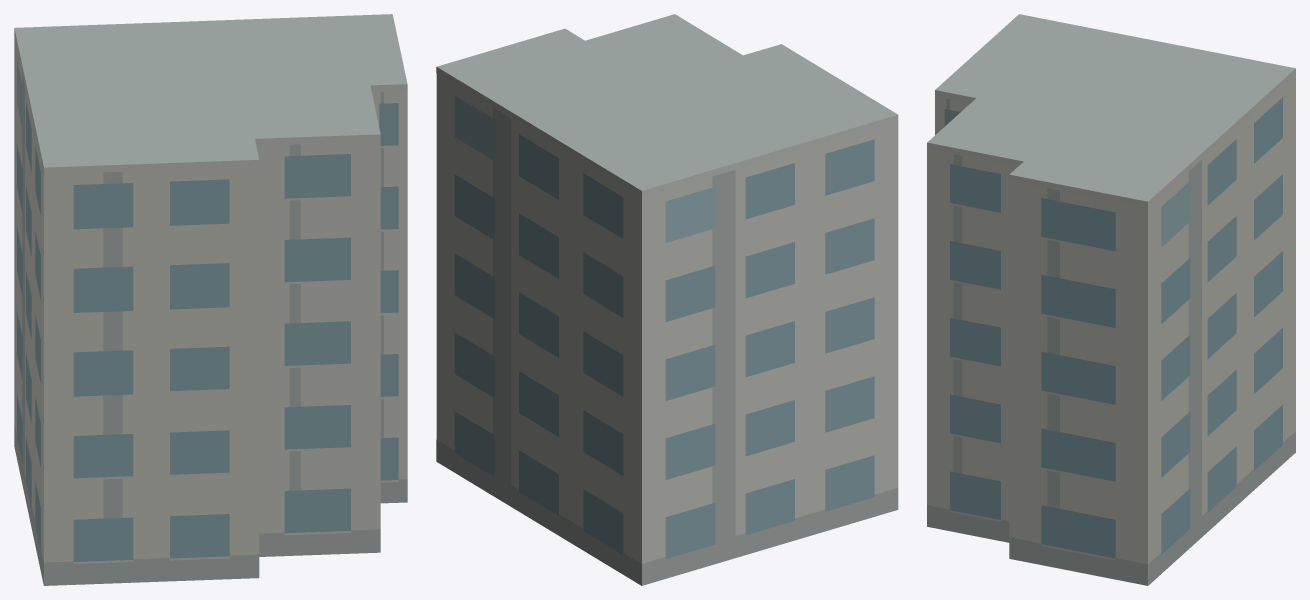
File: survey-upis-32797784.glb
3 views of the same model, side by side, from view 1: azimuth 30°, elevation 25°; view 2: azimuth 150°, elevation 25°; view 3: azimuth 270°, elevation 25° (orthographic). The views are drawn at different scales.
Visible parts, largest first — view 1: survey-upis-32797784.tmp; view 2: survey-upis-32797784.tmp; view 3: survey-upis-32797784.tmp.
Part boxes in pixels (x1,y1,x2,y2): survey-upis-32797784.tmp: (14, 14, 407, 585); survey-upis-32797784.tmp: (436, 14, 898, 585); survey-upis-32797784.tmp: (927, 14, 1295, 585).
Bounding box in the file's own units: 15.1 × 14.4 × 12.54.
